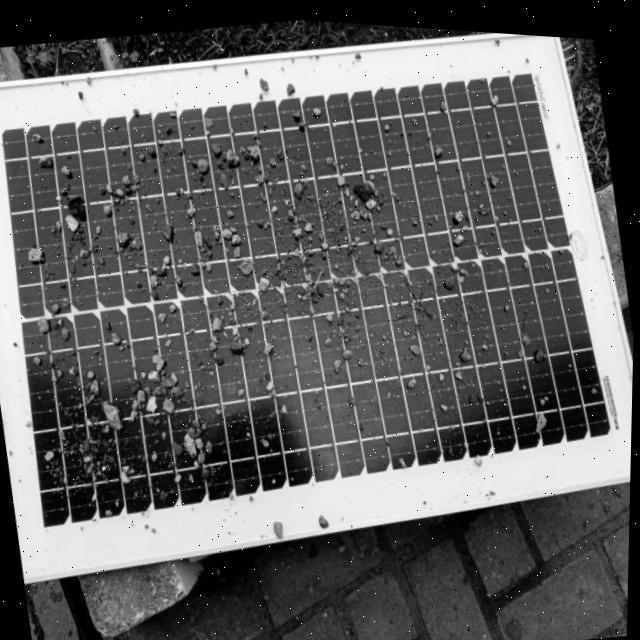Surface Contaminant: (0, 48, 600, 514)
